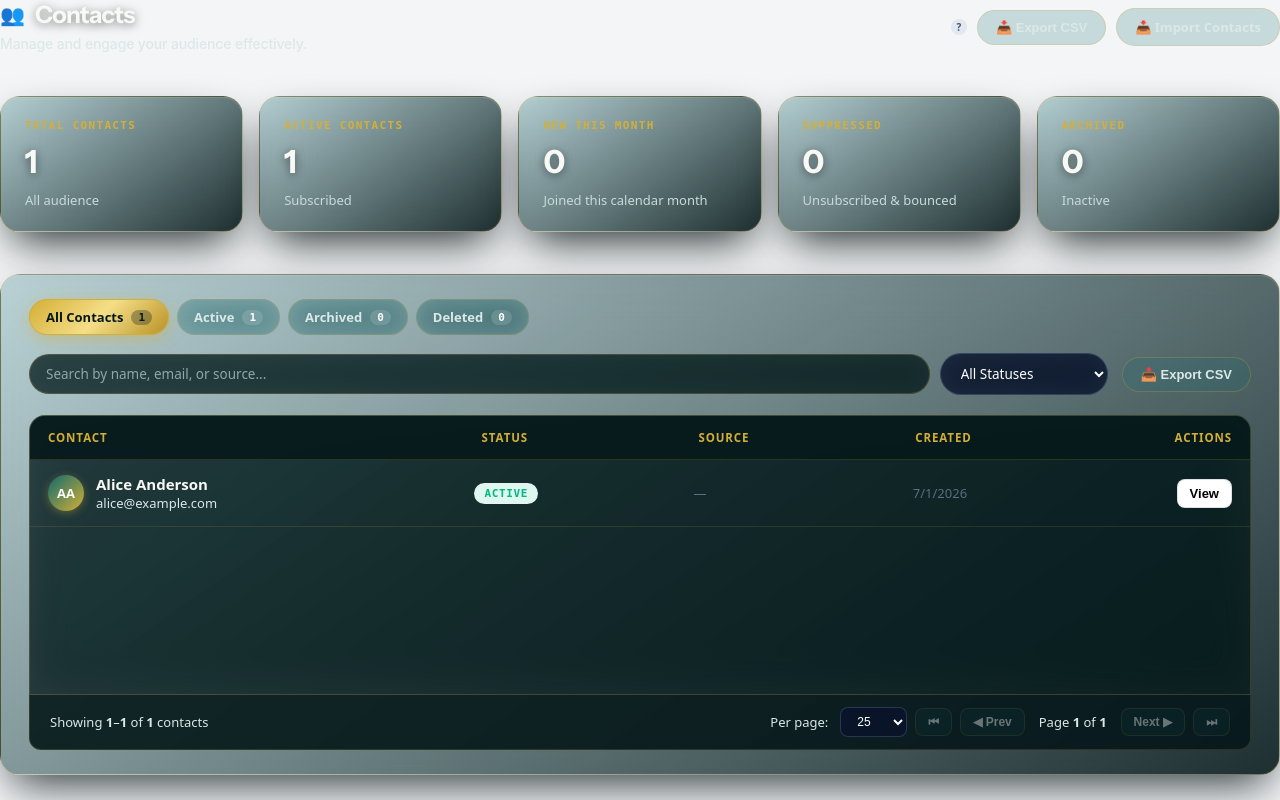
ContactsPage › hides write controls for a view-only user
Expected: the text "Alice Anderson" is shown, [96, 474, 217, 494]
Click the button "View" at (1204, 493), box [1177, 479, 1232, 508]
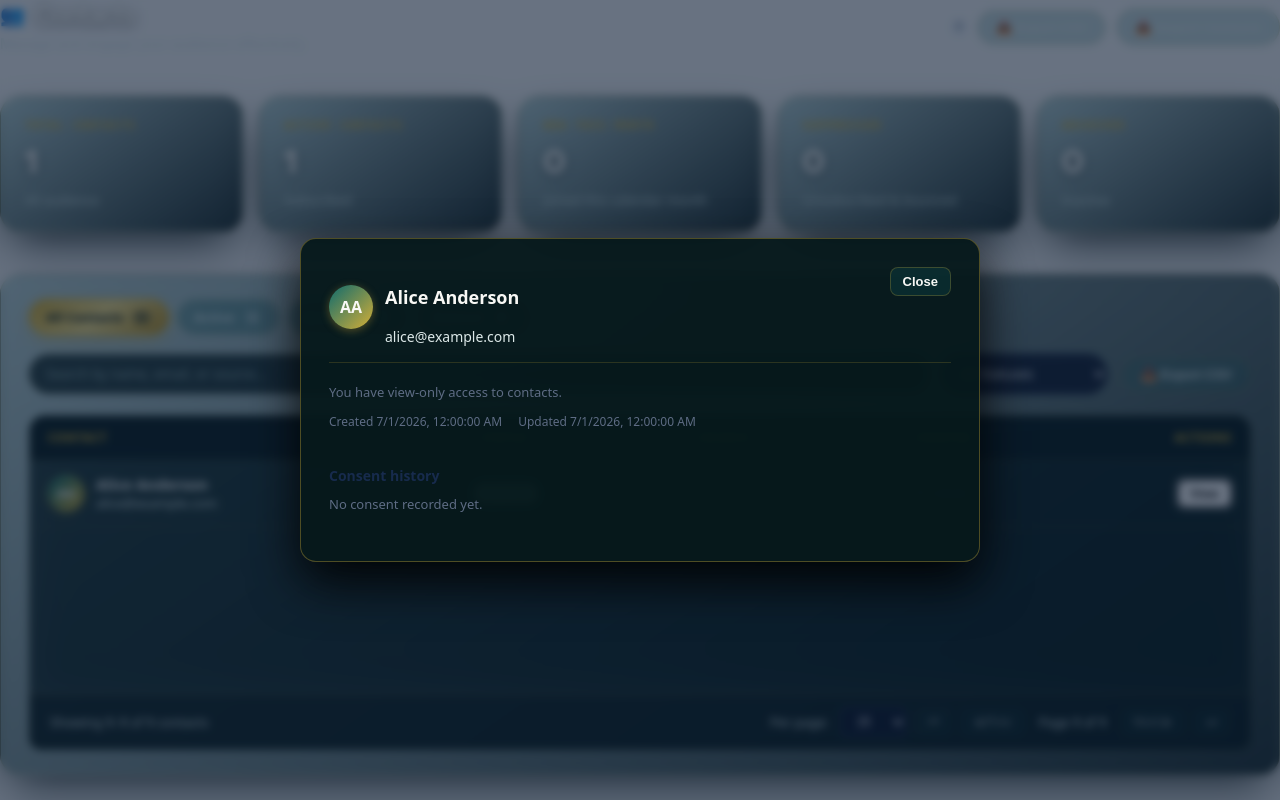
Expected: the text "You have view-only access to contacts." is shown, [329, 383, 562, 401]
